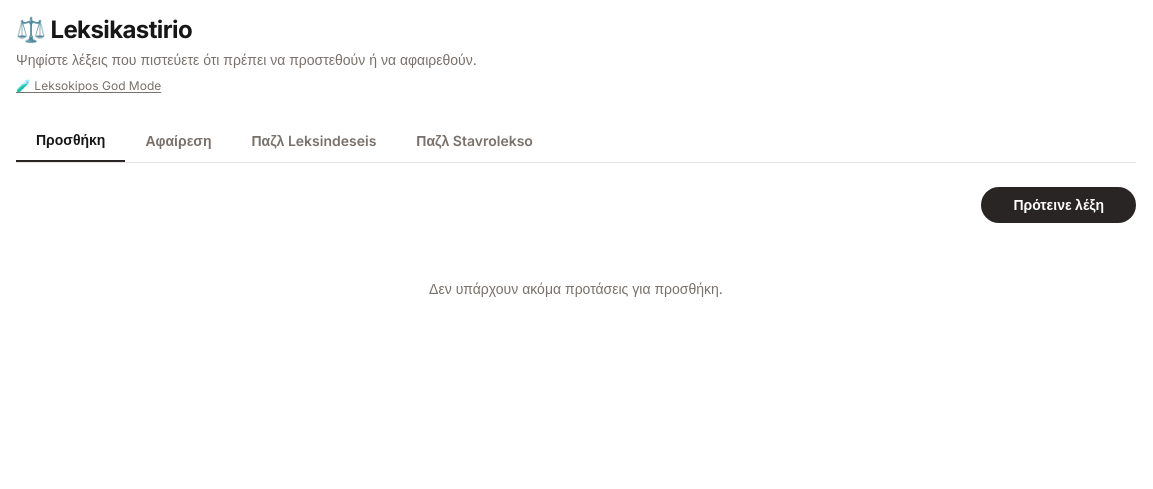
Scenario: CommunityQueueCard — the review wire › stavrolekso: the reviewed row leaves the queue
Click the button "Παζλ Stavrolekso".
click(475, 141)  # box [396,120,553,162]
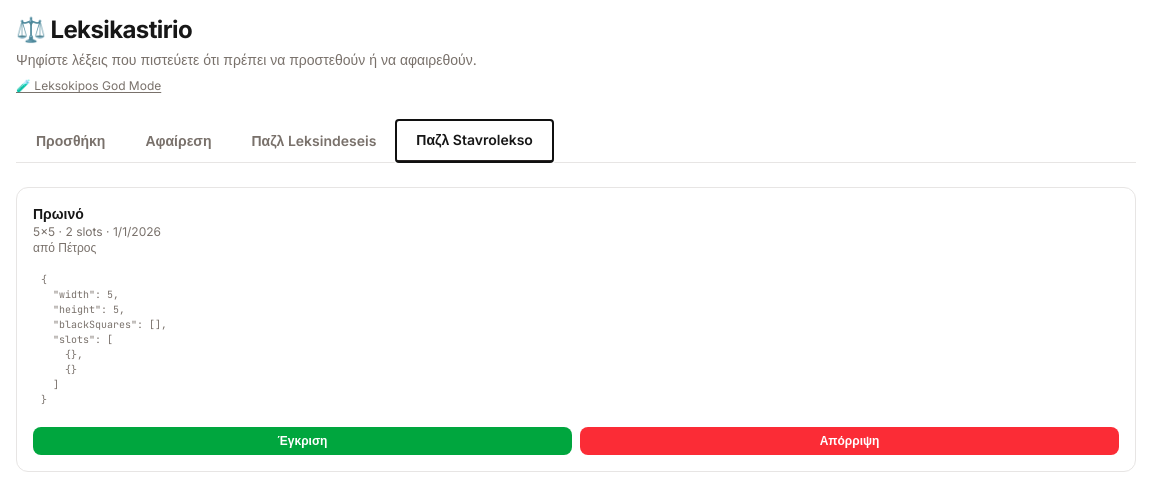
Click the button with test id "community-approve".
click(302, 441)  # box [33,427,572,455]
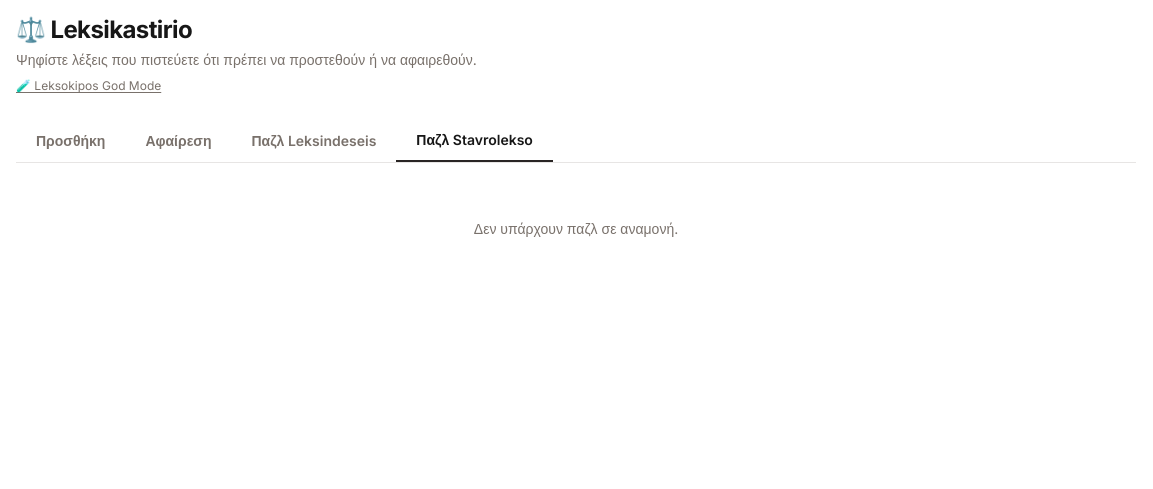
Expected: the element with test id "community-queue-card" is gone
Expected: the text "Δεν υπάρχουν παζλ σε αναμονή." is shown, [474,220,678,237]
